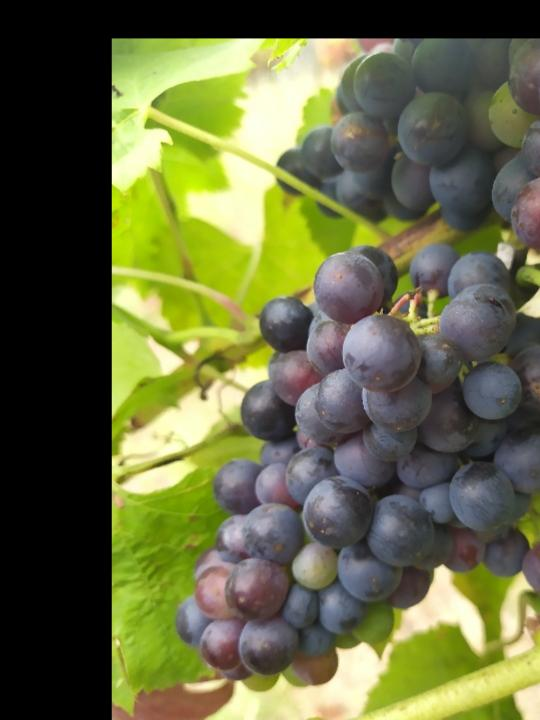grape: (177, 239, 540, 695)
